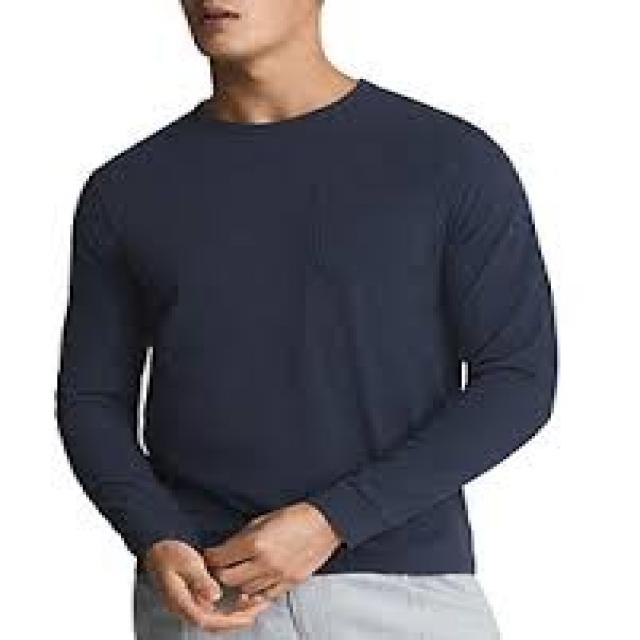plain: (45, 72, 573, 581)
